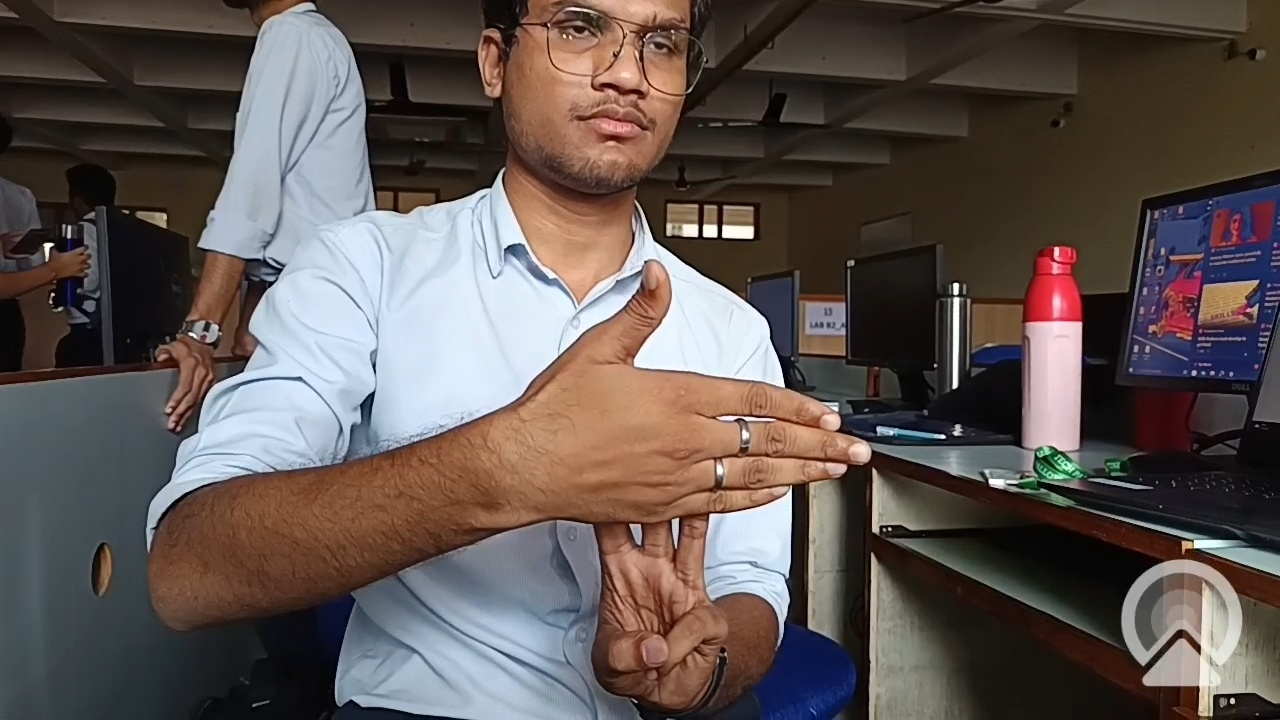M: (497, 228, 883, 720)
